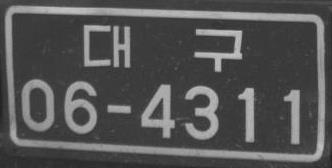0: (20, 78, 55, 132)
1: (230, 86, 265, 143), (276, 88, 311, 145)
3: (183, 84, 220, 140)
4: (142, 83, 175, 138)
6: (63, 79, 97, 134)
대구_D: (82, 23, 244, 73)
